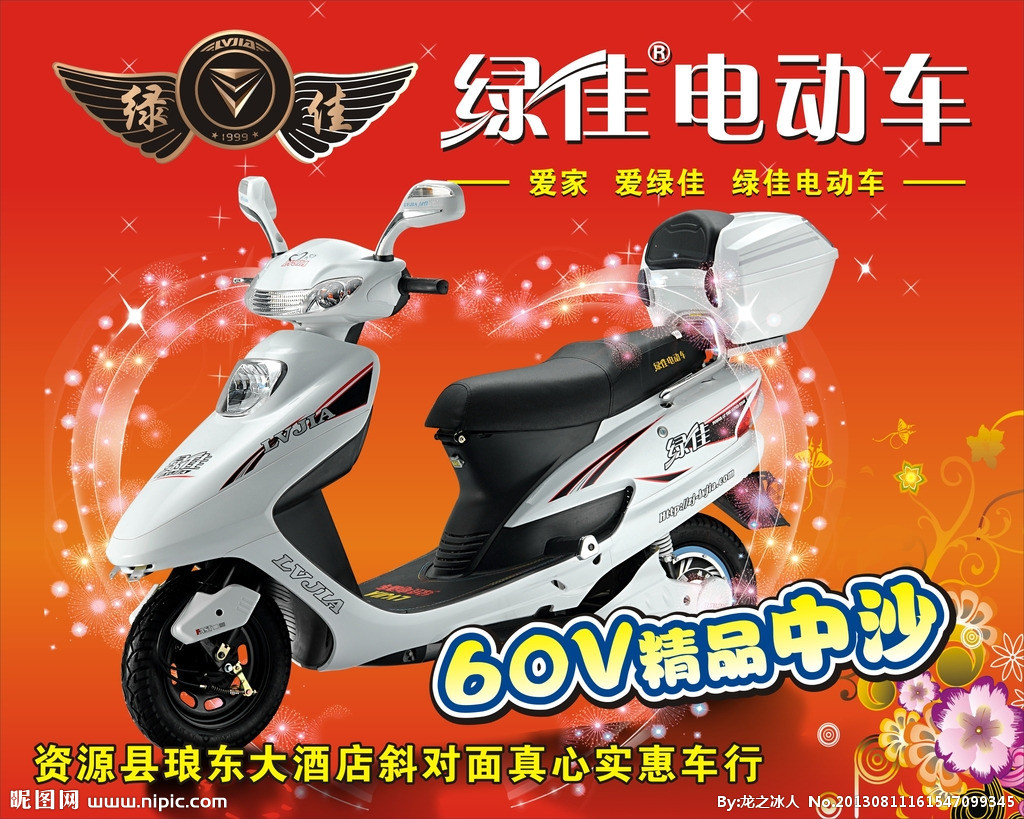电动车: (98, 168, 848, 765)
